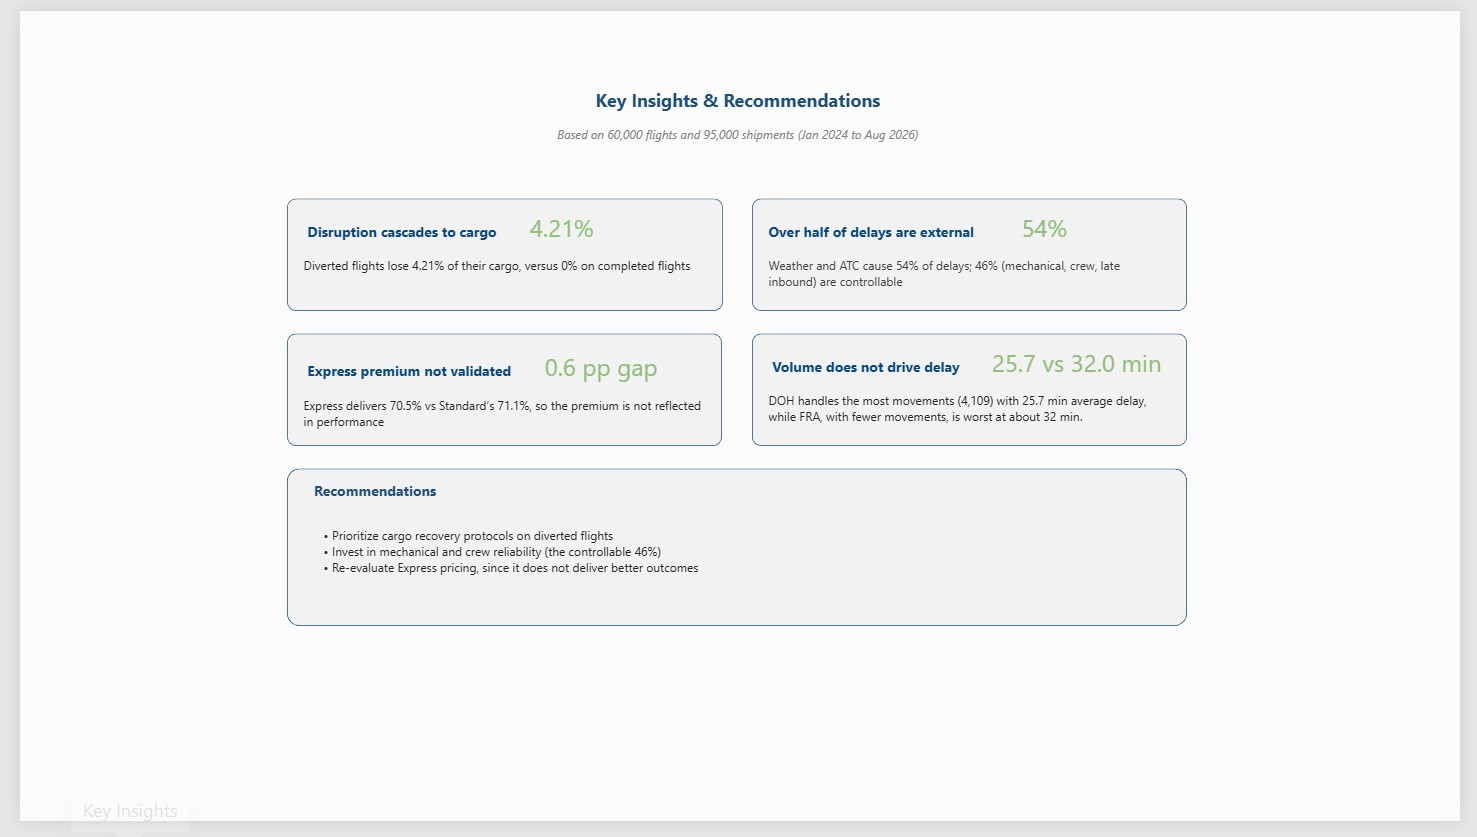

The dashboard page shown, as its layout file describes it:
{"tool":"powerbi","page":{"name":"Key Insights","canvas":[1920,1080],"ordinal":0},"visuals":[{"type":"shape","box":[356,250,581.2,149.9],"z":0,"group":"g6"},{"type":"shape","box":[976,250,580,150],"z":0,"group":"g7"},{"type":"shape","box":[356,430,580,150],"z":0,"group":"g8"},{"type":"shape","box":[976,430,580,150],"z":0,"group":"g9"},{"type":"shape","box":[356,610,1200,210],"z":0,"group":"g5"},{"type":"group","id":"g1","title":"Group 2","box":[356,250,581.2,149.9],"z":1000},{"type":"textbox","box":[378.8,265.2,535.5,119.6],"z":1000,"group":"g6"},{"type":"textbox","box":[998.8,265.2,534.4,119.6],"z":1000,"group":"g7"},{"type":"textbox","box":[378.8,445.2,534.4,119.6],"z":1000,"group":"g8"},{"type":"textbox","box":[998.8,445.2,534.4,119.6],"z":1000,"group":"g9"},{"type":"textbox","box":[392.3,626.9,1060.4,169.8],"z":1000,"group":"g5"},{"type":"group","id":"g2","title":"Group 2","box":[976,250,580,150],"z":2000},{"type":"group","id":"g3","title":"Group 2","box":[356,430,580,150],"z":3000},{"type":"group","id":"g4","title":"Group 2","box":[976,430,580,150],"z":4000},{"type":"group","id":"g5","title":"Group 2","box":[356,610,1200,210],"z":5000},{"type":"textbox","box":[488,102,938.3,108.3],"z":6000},{"type":"shape","box":[0,0,178.6,1080],"z":6001},{"type":"group","id":"g6","title":"Group 1","box":[356,250,581.2,149.9],"z":6001,"group":"g1"},{"type":"group","id":"g7","title":"Group 3","box":[976,250,580,150],"z":6001,"group":"g2"},{"type":"group","id":"g8","title":"Group 4","box":[356,430,580,150],"z":6001,"group":"g3"},{"type":"group","id":"g9","title":"Group 5","box":[976,430,580,150],"z":6001,"group":"g4"},{"type":"pageNavigator","box":[10,860,158,200],"z":6002}]}

Visuals, with their boxes in screenshot pixels (x1, y1, x2, y2), scaled from the page's 1920x1080 canvas onto the 1477x837 screenshot:
shape: box=[274, 194, 721, 310]
shape: box=[751, 194, 1197, 310]
shape: box=[274, 333, 720, 450]
shape: box=[751, 333, 1197, 450]
shape: box=[274, 473, 1197, 636]
"Group 2" group: box=[274, 194, 721, 310]
textbox: box=[291, 206, 703, 298]
textbox: box=[768, 206, 1179, 298]
textbox: box=[291, 345, 702, 438]
textbox: box=[768, 345, 1179, 438]
textbox: box=[302, 486, 1118, 617]
"Group 2" group: box=[751, 194, 1197, 310]
"Group 2" group: box=[274, 333, 720, 450]
"Group 2" group: box=[751, 333, 1197, 450]
"Group 2" group: box=[274, 473, 1197, 636]
textbox: box=[375, 79, 1097, 163]
shape: box=[0, 0, 137, 836]
"Group 1" group: box=[274, 194, 721, 310]
"Group 3" group: box=[751, 194, 1197, 310]
"Group 4" group: box=[274, 333, 720, 450]
"Group 5" group: box=[751, 333, 1197, 450]
pageNavigator: box=[8, 666, 129, 822]
